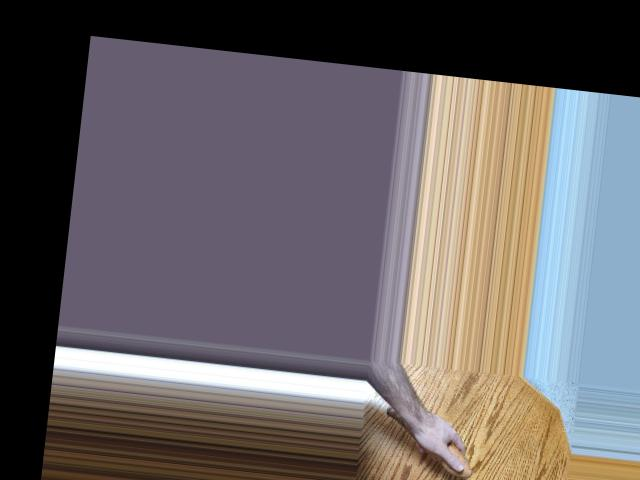sweet_potato: (378, 407, 479, 480)
